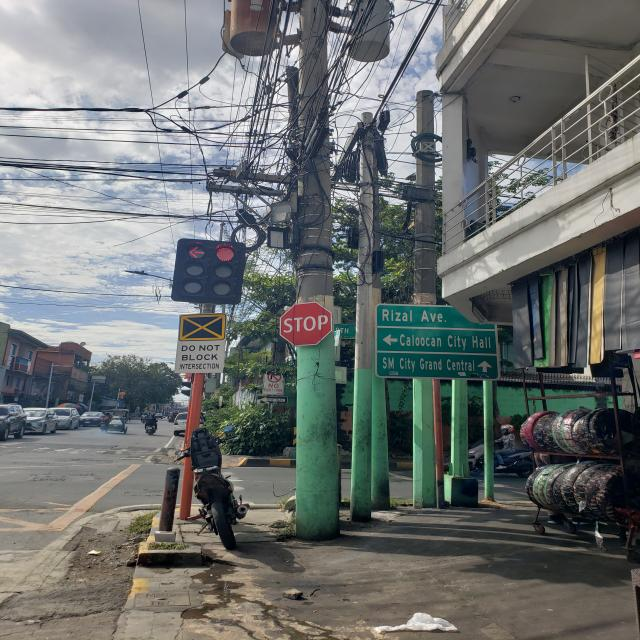stop-sign: (279, 301, 333, 347)
